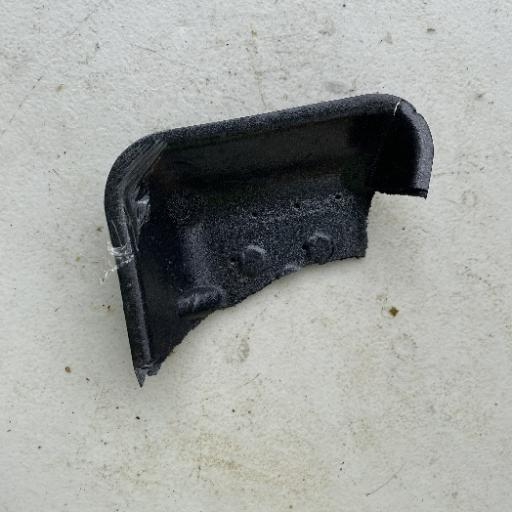Plastic: (100, 90, 436, 388)
